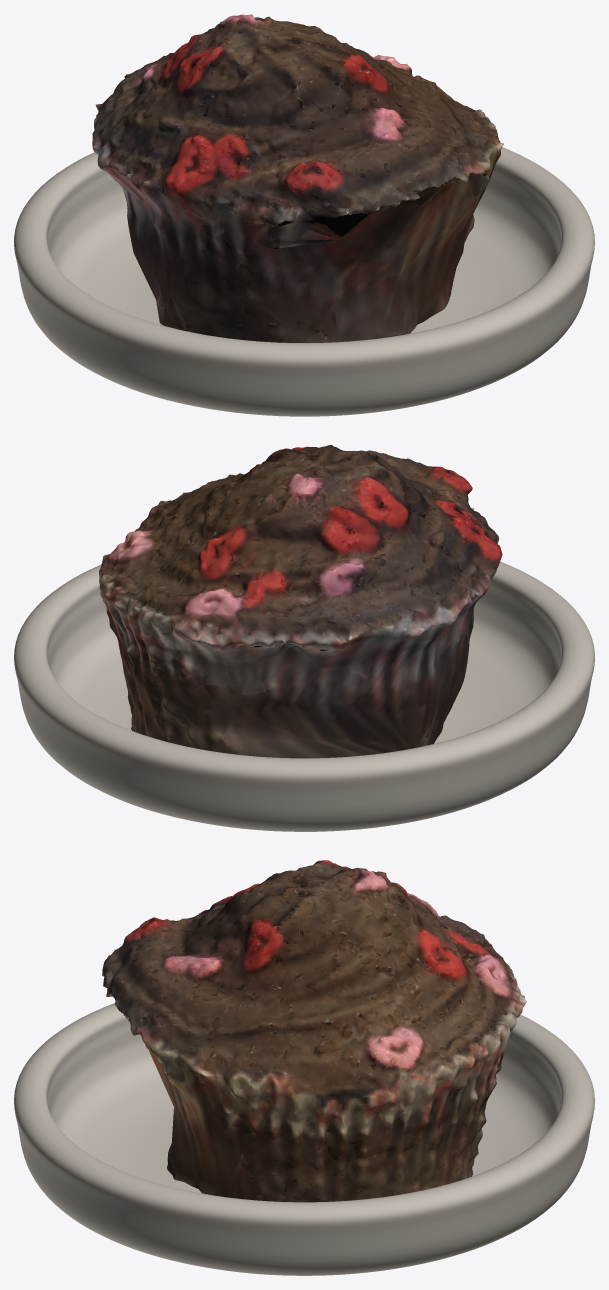
File: cupcake.fbx
The picture shows the model from 3 angles, top to bottom: view 1: azimuth 30°, elevation 25°; view 2: azimuth 150°, elevation 25°; view 3: azimuth 270°, elevation 25°; orthographic projection.
Parts seen in each view (by area): view 1: BezierCurve.001; view 2: BezierCurve.001; view 3: BezierCurve.001.
Part boxes in pixels (<box>): BezierCurve.001: <box>14,14,594,416</box>; BezierCurve.001: <box>14,445,594,831</box>; BezierCurve.001: <box>14,860,594,1275</box>.
Size of the model in its own units: 88.4 by 48.9 by 88.41.
